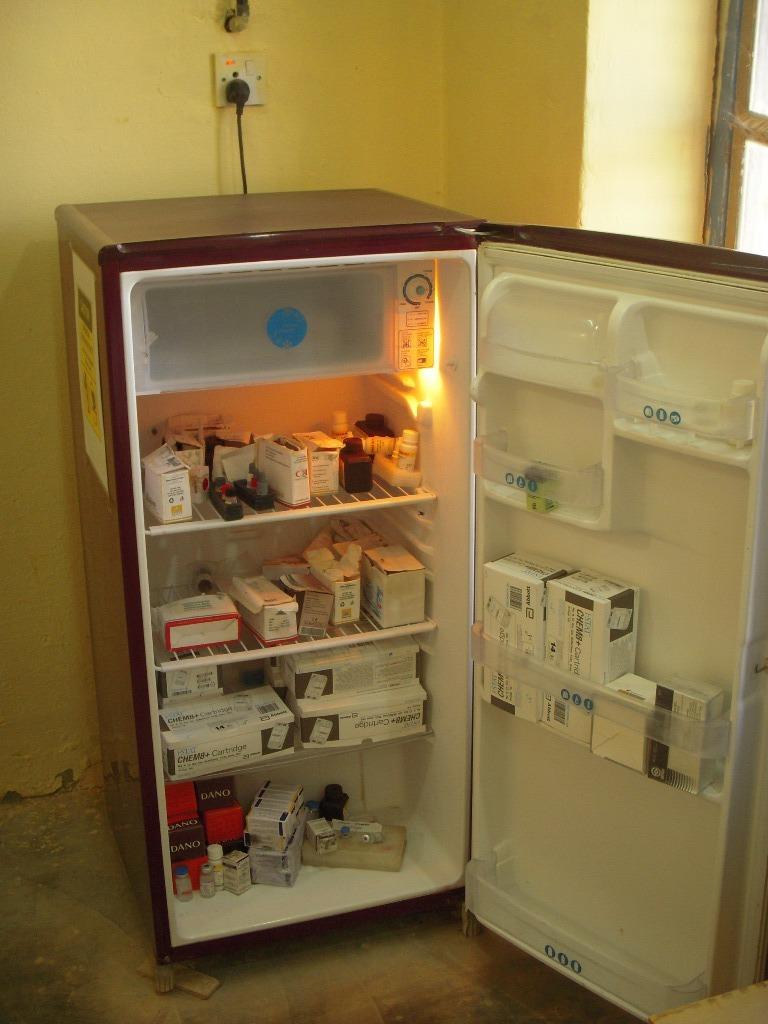refrigerator door: (478, 260, 730, 973)
